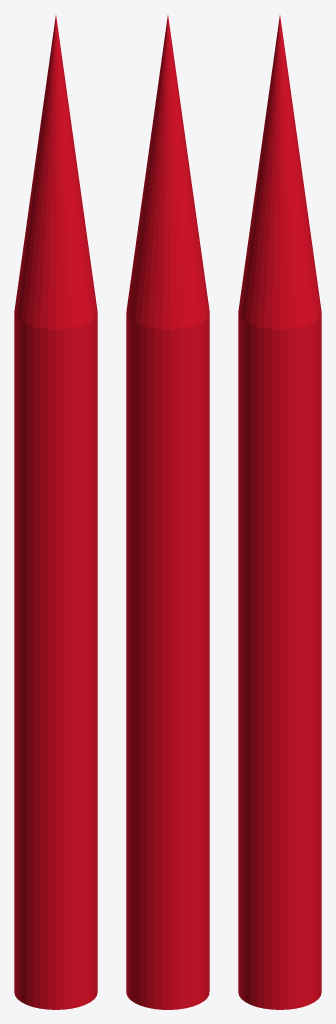
Rendered from laser - kopie.fbx.
3 views of the same model, side by side, from view 1: azimuth 90°, elevation 25°; view 2: azimuth 150°, elevation 25°; view 3: azimuth 270°, elevation 25° (orthographic).
Parts seen in each view (by area): view 1: Cone; view 2: Cone; view 3: Cone.
Boxes of the visible parts, x1,y1,x2,y2 form: Cone: (14,15,97,1009); Cone: (126,15,209,1009); Cone: (238,15,321,1009).
Size of the model in its own units: 43.94 by 570 by 43.94.
